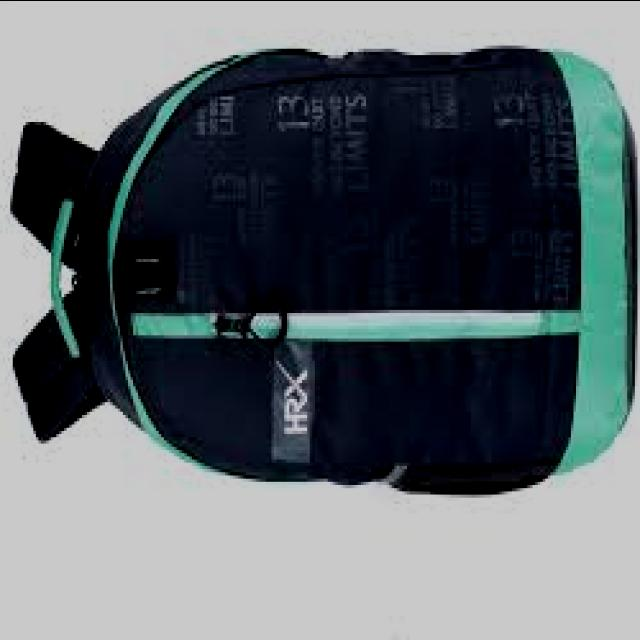backpack: (9, 46, 636, 498)
